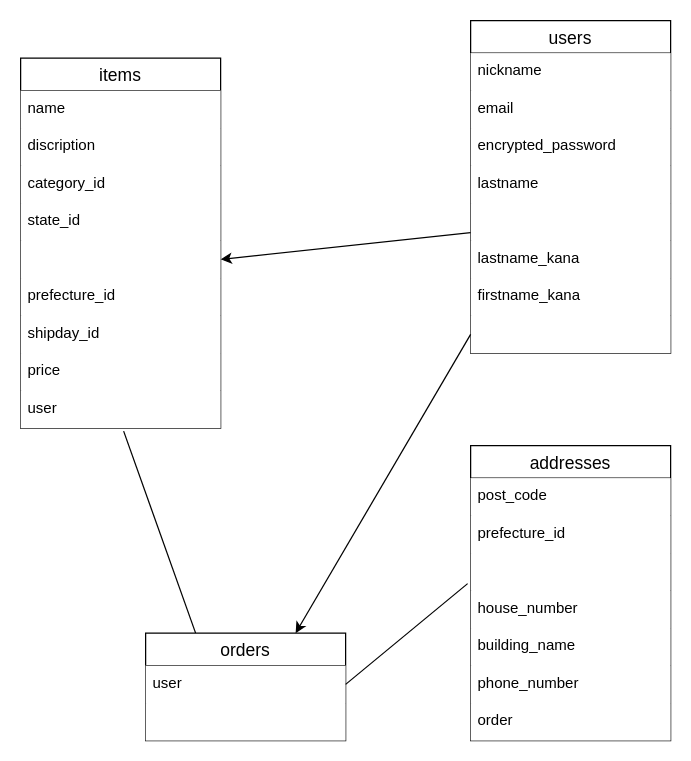
The diagram is 691 pixels wide and 761 high, and some of its shapes have lost their labels. The shapes that lost their labels are listed below. From the top down, each one's centre as x and y in pixels, then its label:
At point 570,221: "firstname".
At point 120,259: "shipcharge_id".
At point 570,333: "birth_date".
At point 570,571: "municipalities".
At point 245,721: "item".
